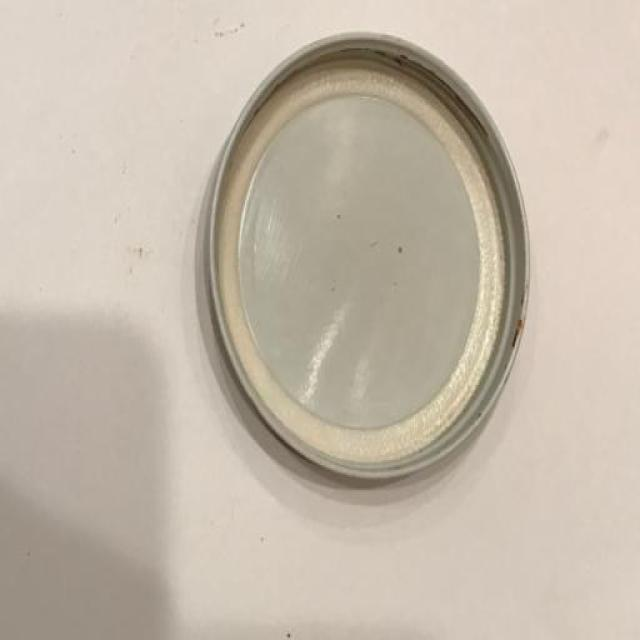Metal: (206, 33, 530, 487)
